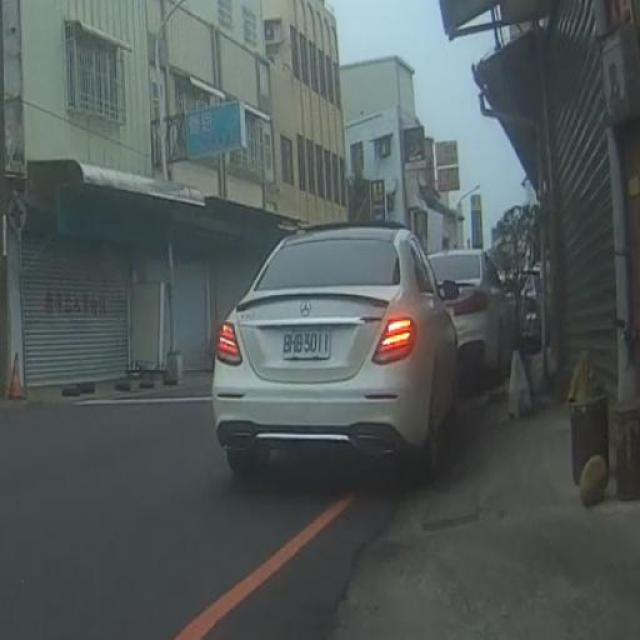illegalparking: (214, 221, 516, 474)
